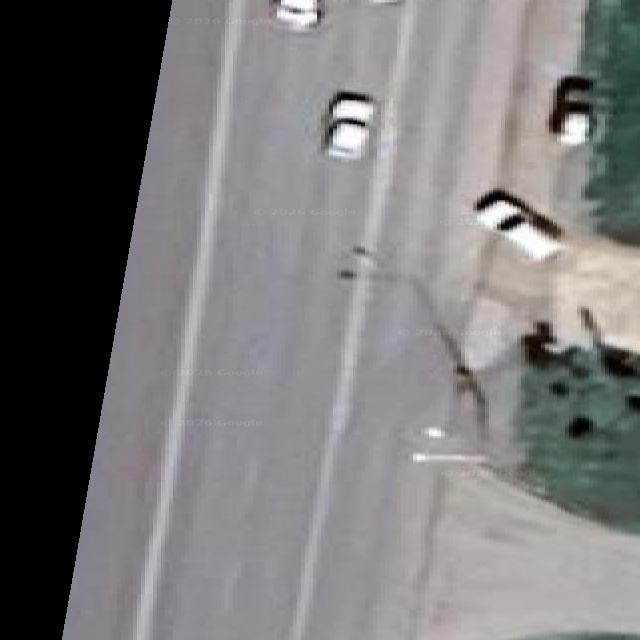car: (474, 189, 562, 260), (322, 91, 375, 159), (549, 75, 593, 145), (270, 0, 323, 31)
